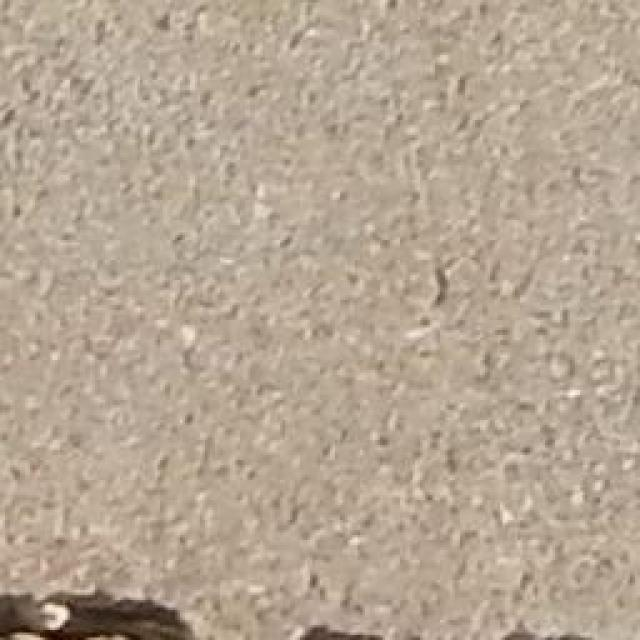concrete-crack: (0, 584, 201, 640)
